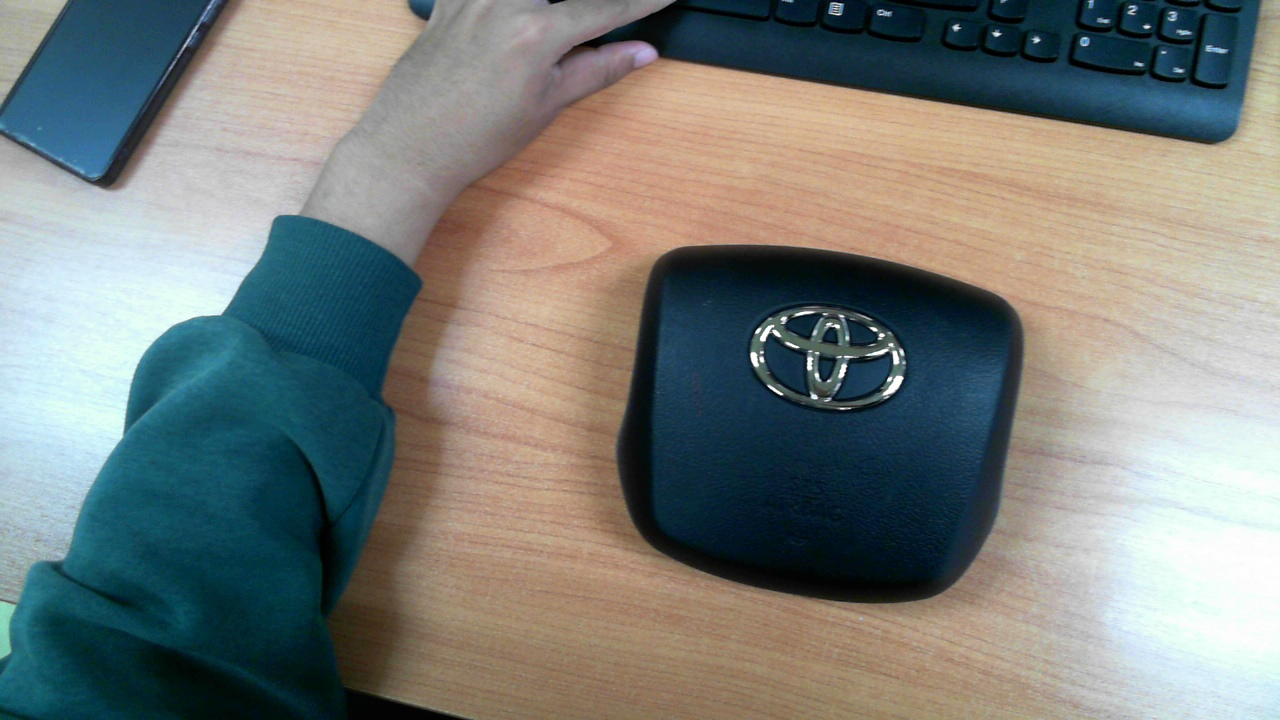Airbag: (615, 243, 1024, 605)
Toyota: (750, 305, 906, 411)
